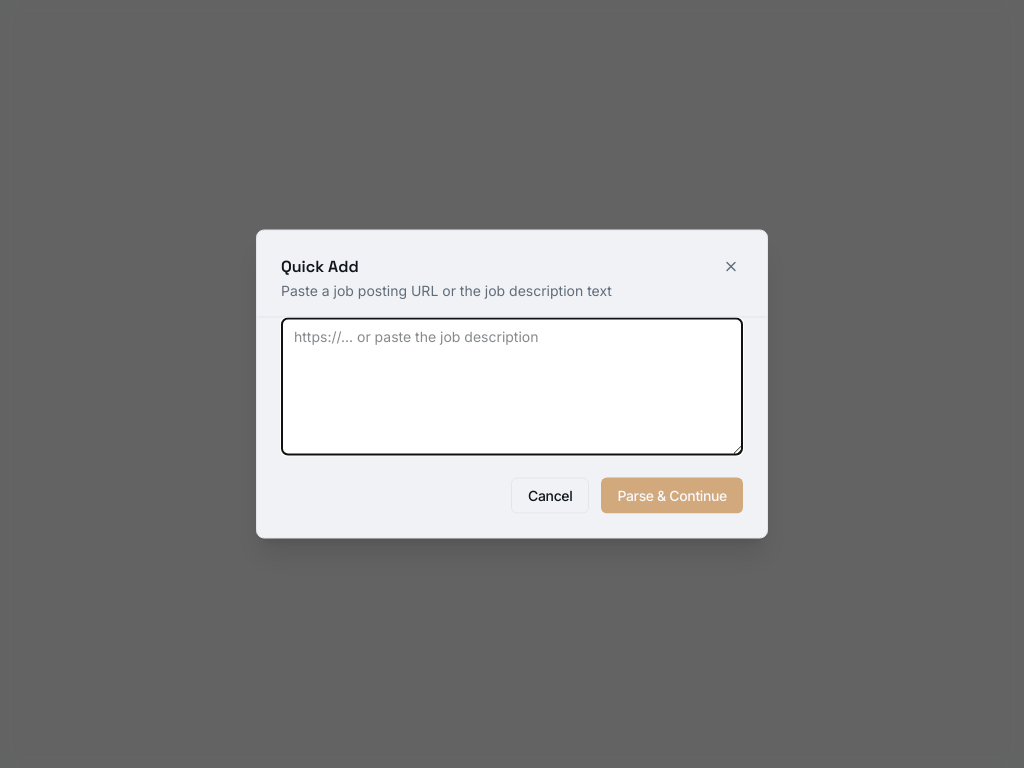
Test case: QuickAdd › keeps the input and offers retry or manual entry when the parser is unavailable
Type "https://acme.example/jobs/1" into the text box with placeholder "https://... or paste the job description" at (512, 386), box [281,318,743,456]
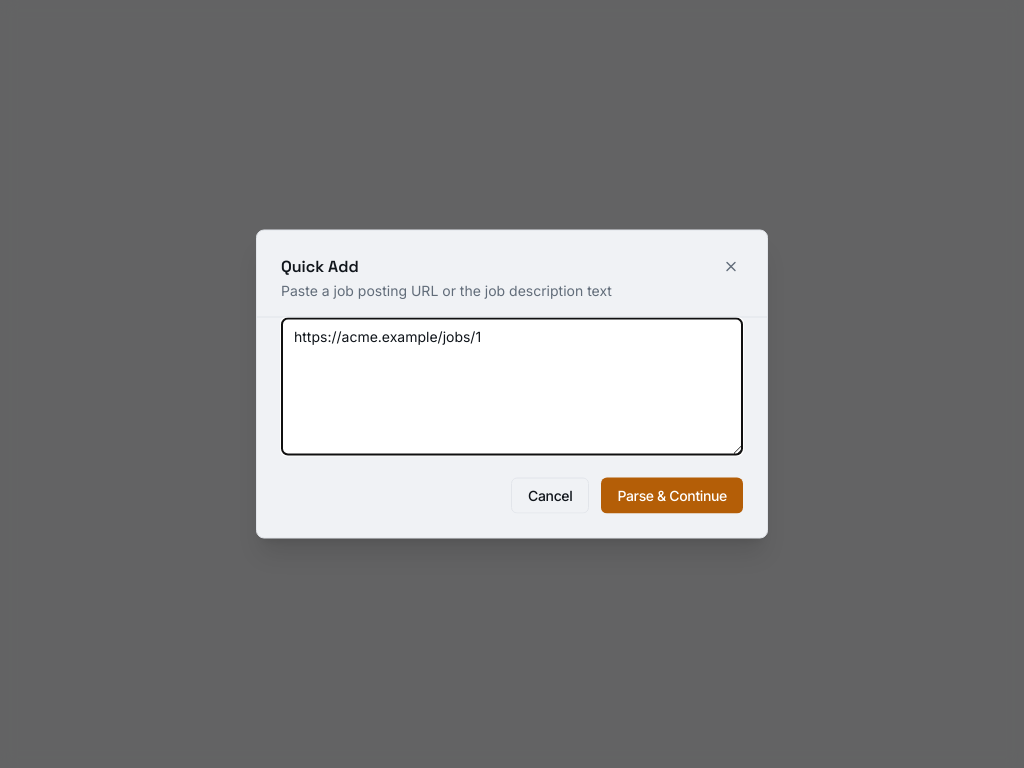
Click the button "Parse & Continue" at (672, 496), box [601,478,743,514]
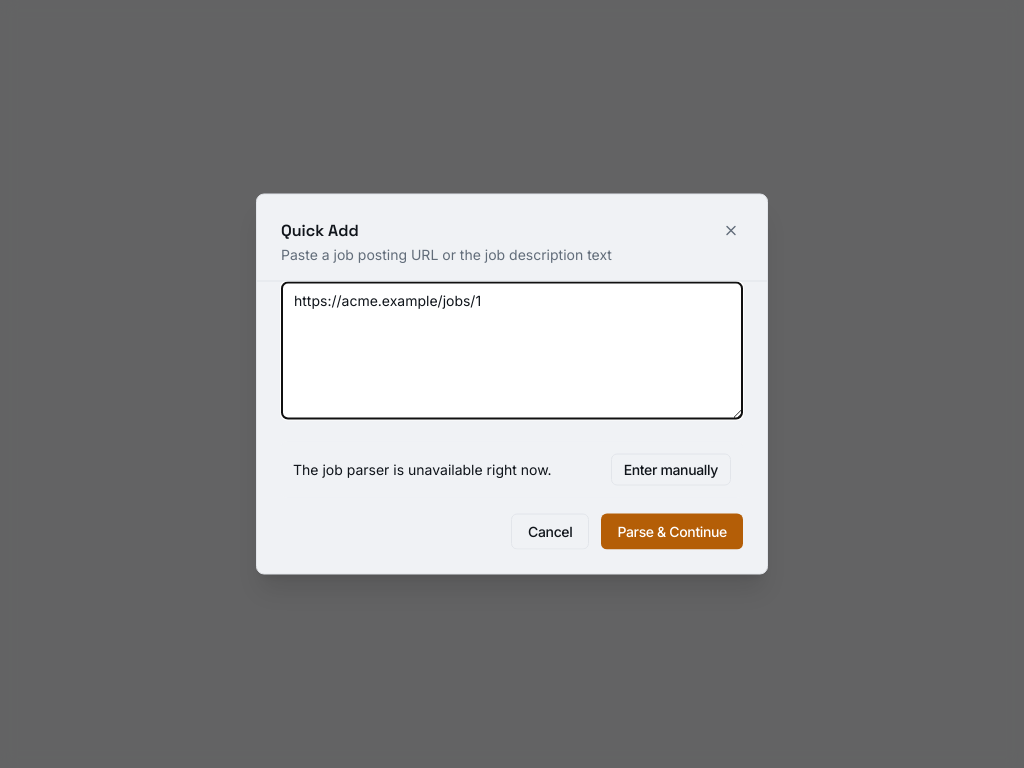
Check: the message shows "The job parser is unavailable right now.", box [293,460,552,478]
Note: Retrying reaches the parser this time.
Click the button "Parse & Continue" at (672, 532), box [601,514,743,550]
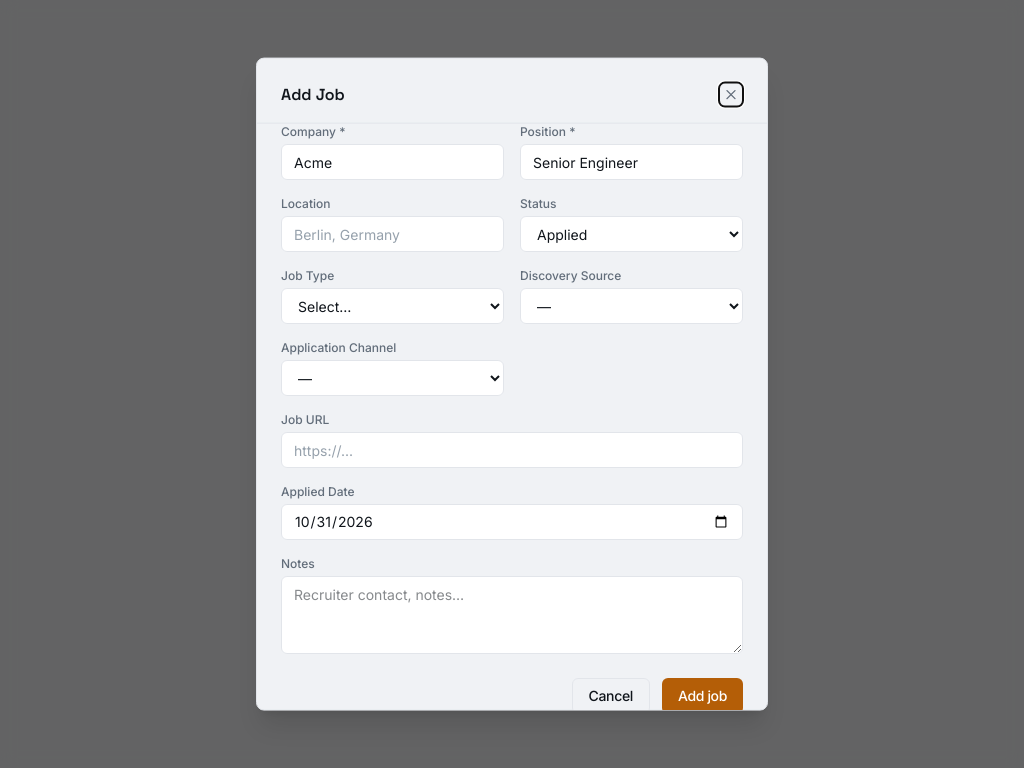
Check: the heading "Add Job" is shown, box [281,83,345,107]
Check: the field labelled "Company *" holds "Acme", box [281,144,504,180]
